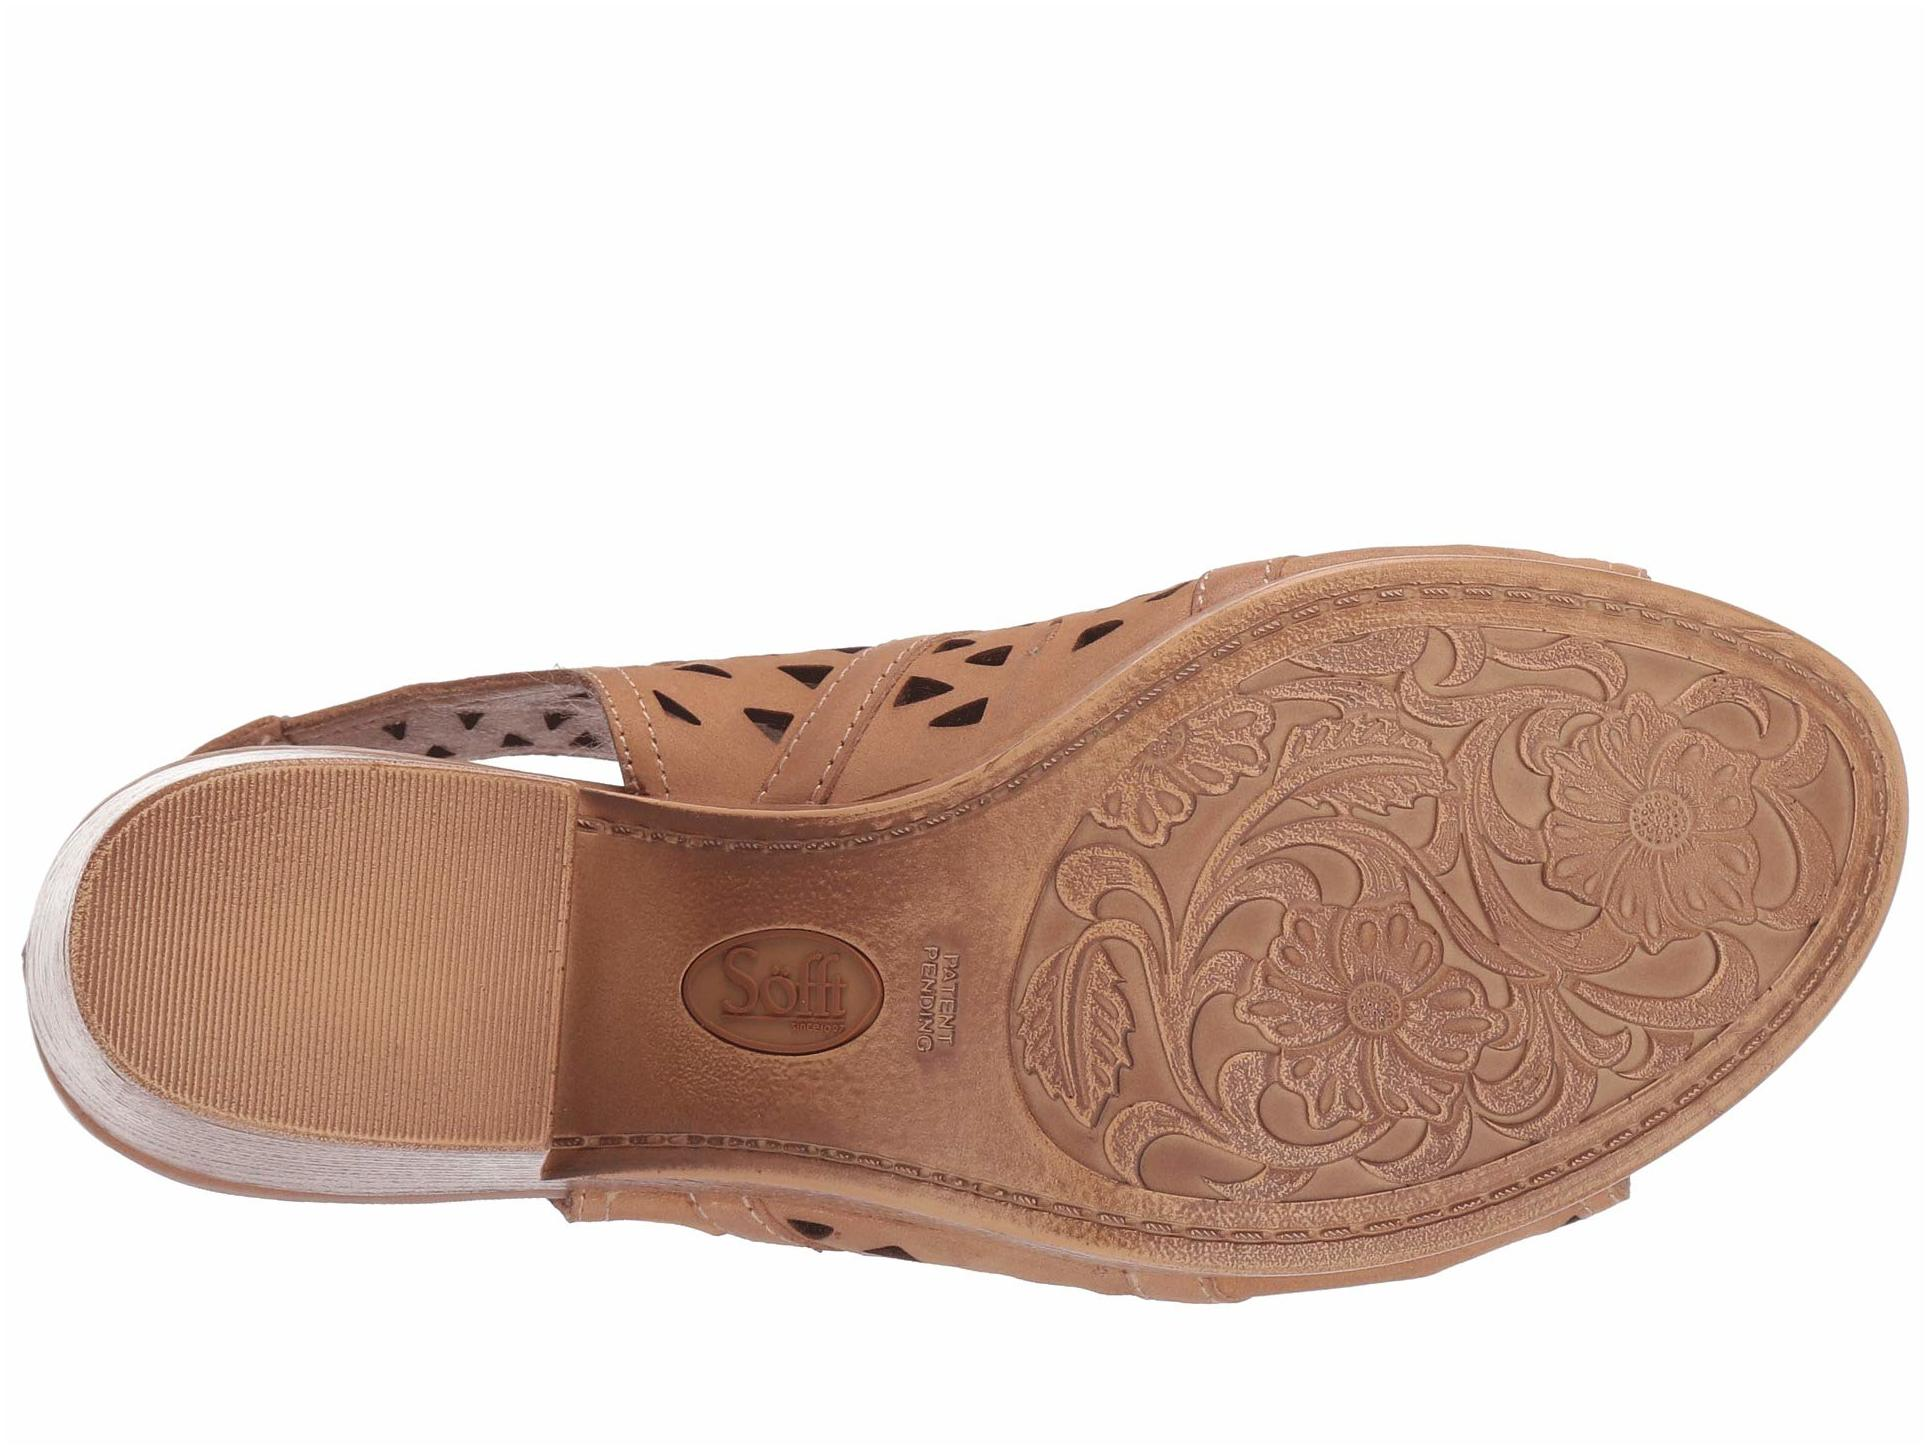circle: (1334, 972, 1414, 1059), (1625, 775, 1702, 861)
line: (151, 818, 522, 1101)
